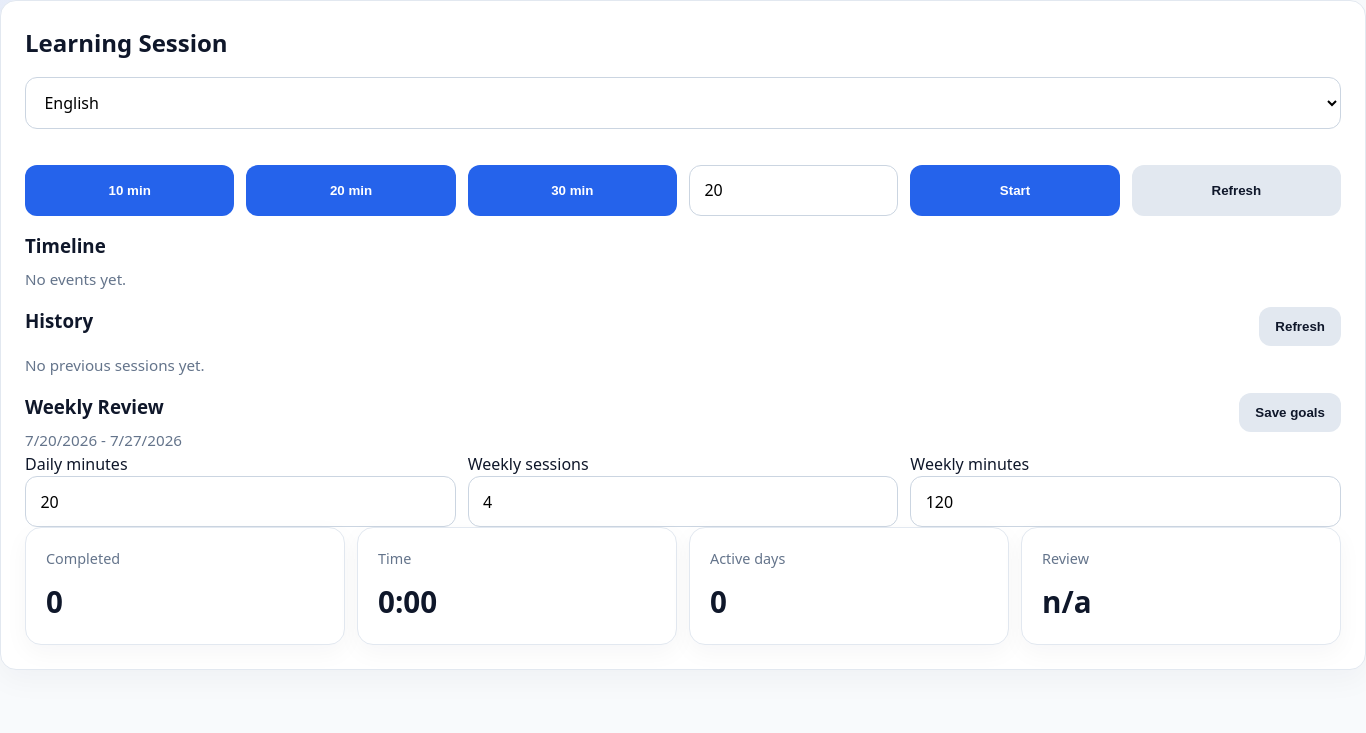
it: LearningSessionPanel.vue › starts a Japanese session after switching languages
The width and height of the screenshot is (1366, 733).
Select "Japanese" in the dropdown named "Language" at (683, 103), box [25,77,1341,129]
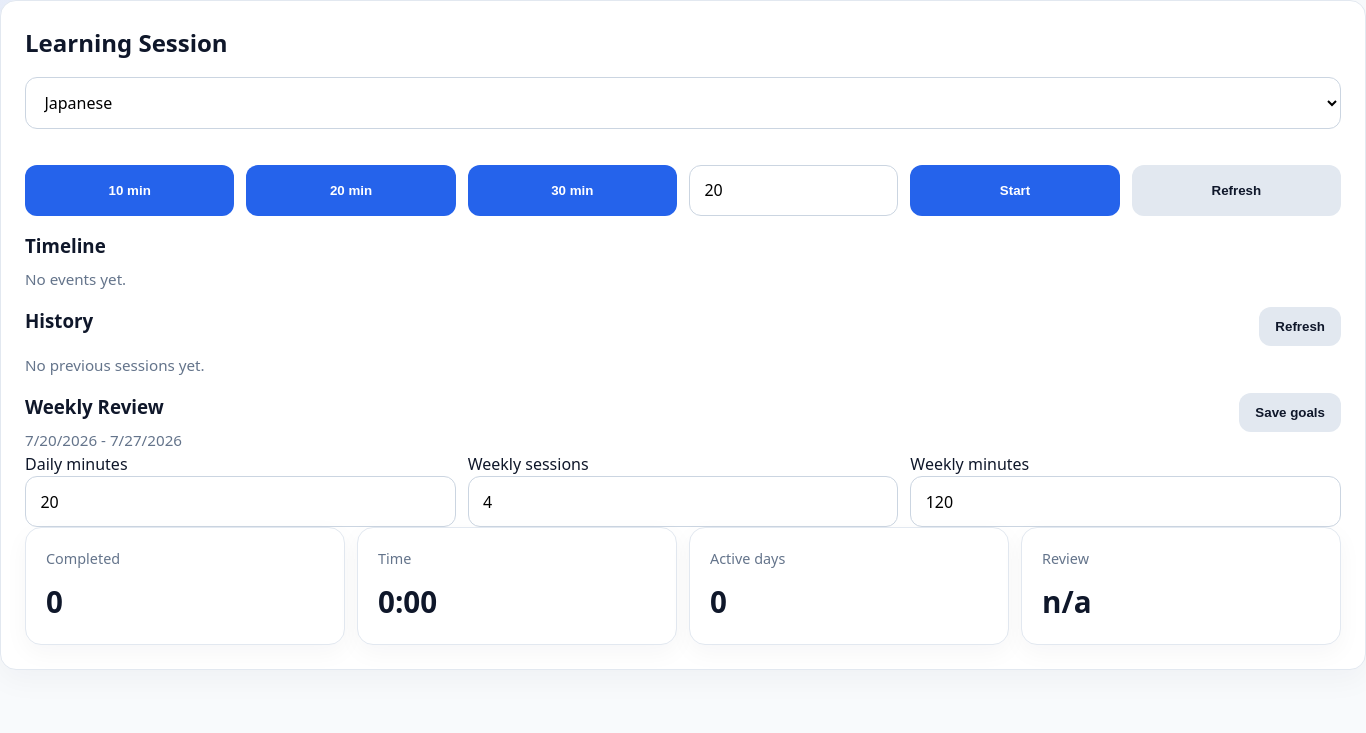
Click the button "Start" at (1015, 190), box [910,165,1120,216]
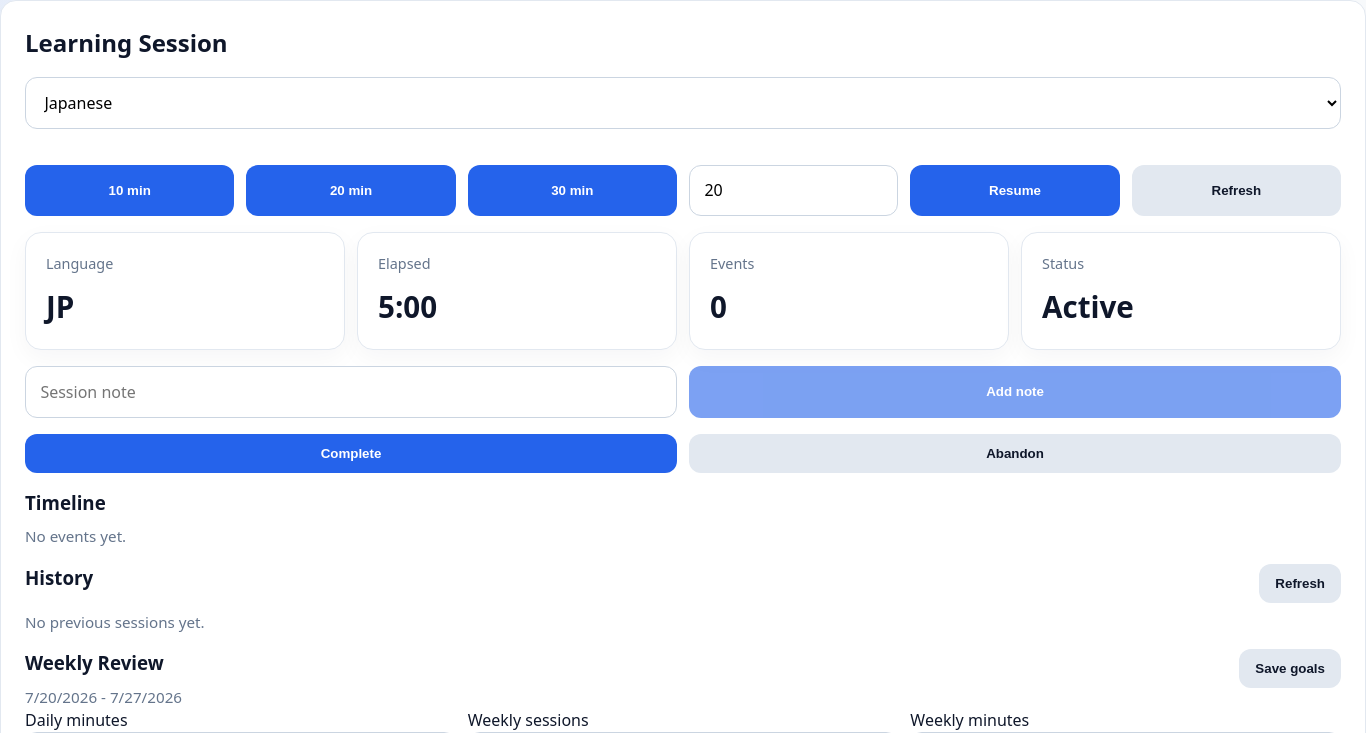
Result: the text "JP" is shown at [46,286,74,327]
